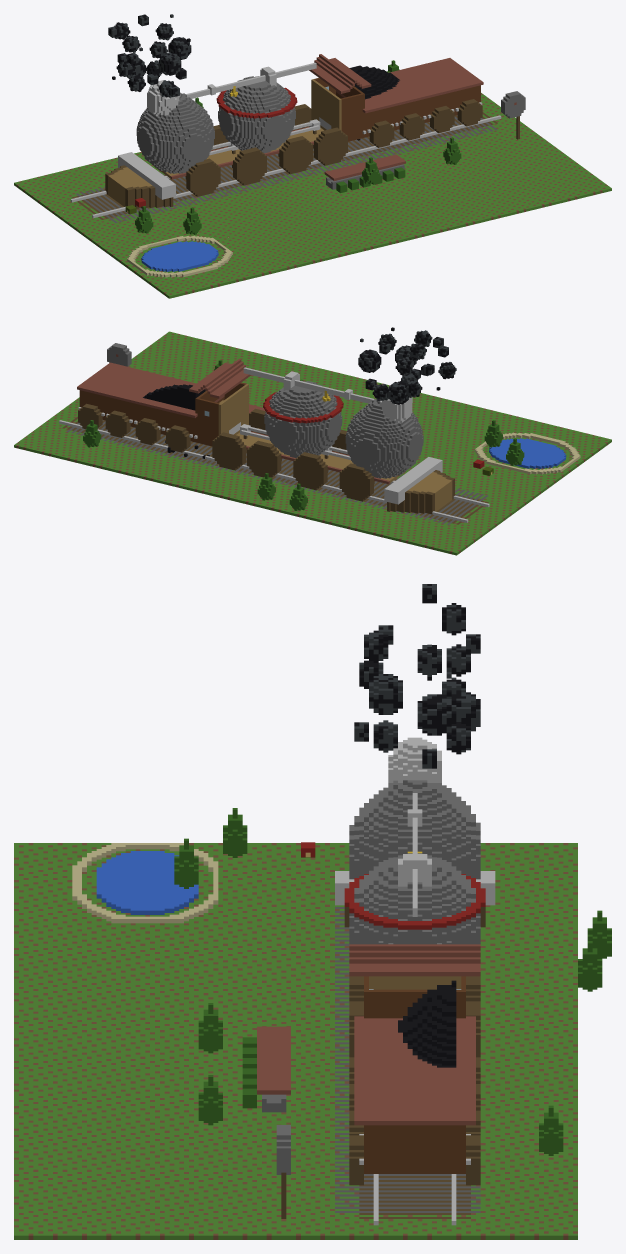
The picture shows the model from 3 angles, top to bottom: view 1: azimuth 30°, elevation 25°; view 2: azimuth 150°, elevation 25°; view 3: azimuth 270°, elevation 25°; orthographic projection. The views are drawn at different scales.
Size of the model in its own units: 191 by 71 by 123.
